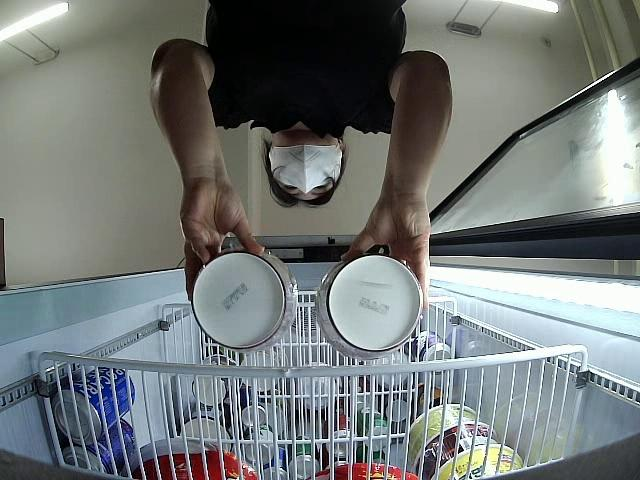00_hand: (339, 198, 431, 310), (178, 185, 261, 302)
05_nuguri_L: (189, 245, 300, 355), (316, 255, 424, 362)
